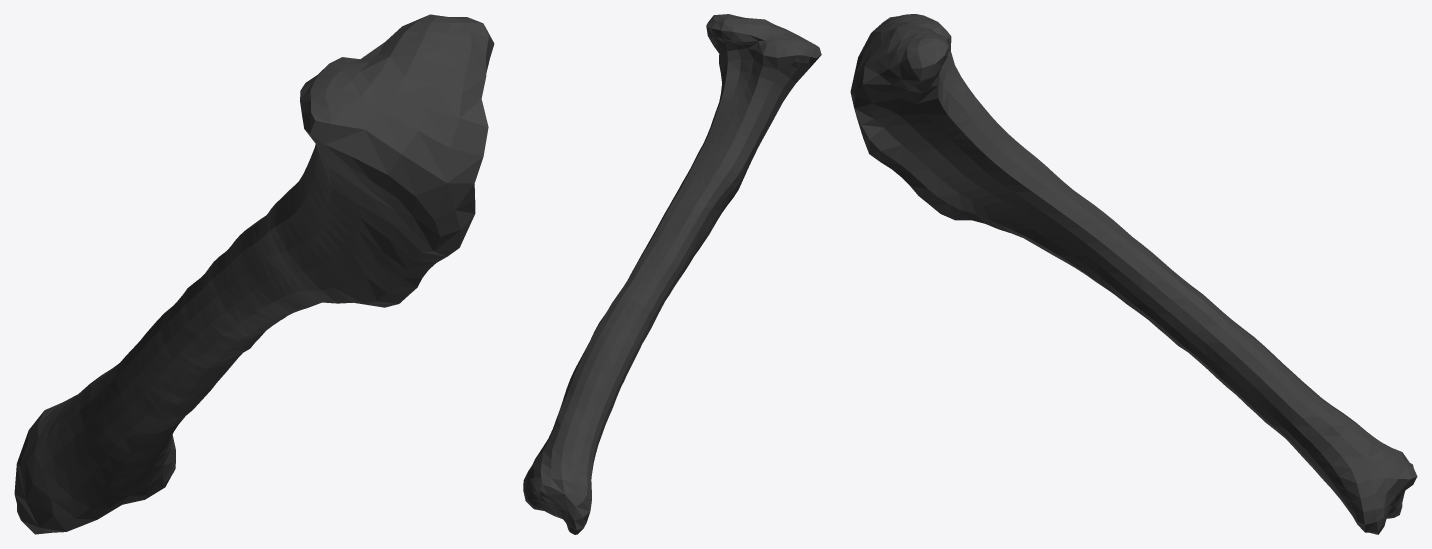
File: L_tibia.glb
3 renders of one model, left to right at view 1: azimuth 30°, elevation 25°; view 2: azimuth 150°, elevation 25°; view 3: azimuth 270°, elevation 25°, orthographic. The views are drawn at different scales.
Visible parts, largest first — view 1: L_tibia; view 2: L_tibia; view 3: L_tibia.
Boxes of the visible parts, x1,y1,x2,y2 form: L_tibia: [14, 14, 494, 534]; L_tibia: [523, 14, 821, 534]; L_tibia: [850, 14, 1417, 534].
Bounding box in the file's own units: 2.53 × 8.05 × 8.33.
1 material, 1 textured.
